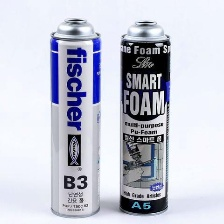aerosol_cans: (46, 16, 103, 221), (115, 17, 172, 218)
